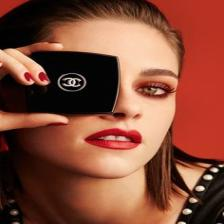red: (149, 0, 224, 160), (85, 129, 142, 150), (40, 72, 49, 81), (24, 72, 33, 81)
